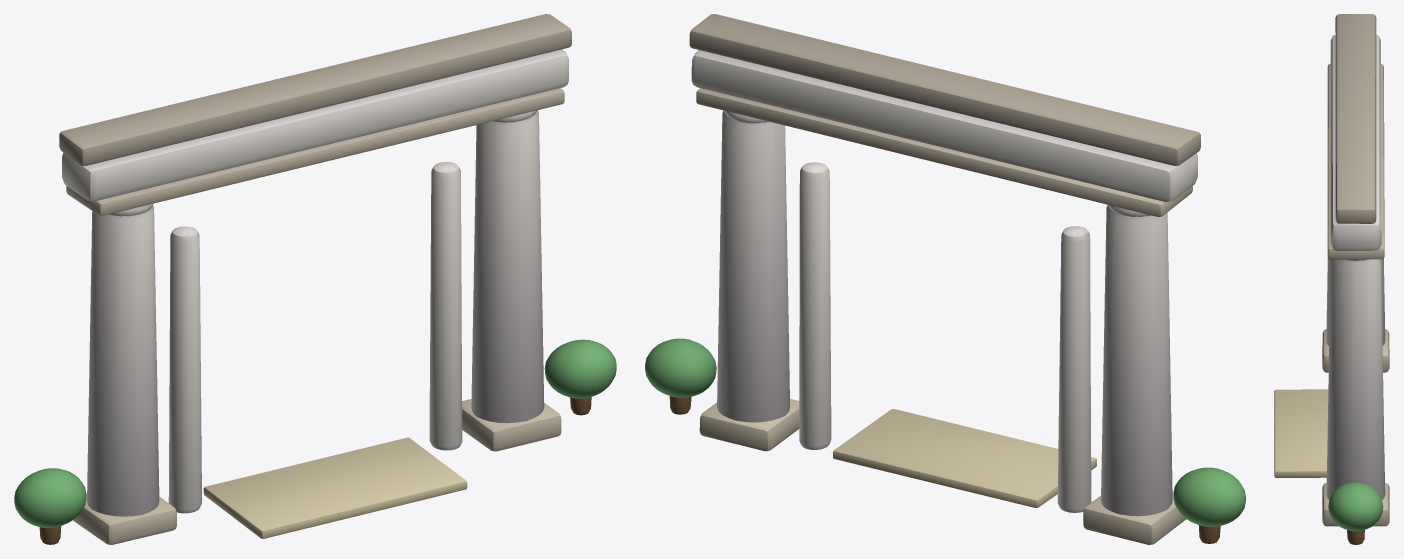
The picture shows the model from 3 angles, left to right: view 1: azimuth 30°, elevation 25°; view 2: azimuth 150°, elevation 25°; view 3: azimuth 270°, elevation 25°; orthographic projection. The views are drawn at different scales.
Visible parts, largest first — view 1: gate_7b6f3820; view 2: gate_7b6f3820; view 3: gate_7b6f3820.
Part boxes in pixels (x1=…): gate_7b6f3820: x1=14, y1=14, x2=616, y2=544; gate_7b6f3820: x1=645, y1=14, x2=1245, y2=544; gate_7b6f3820: x1=1274, y1=14, x2=1389, y2=544.
Bounding box in the file's own units: 6.93 × 4.44 × 1.42.
